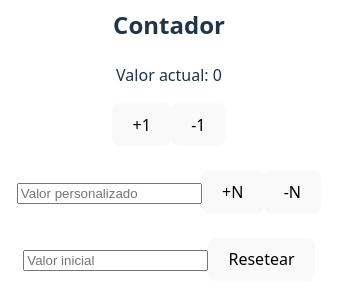
Test: decrementa por valor personalizado
The image size is (338, 288).
Type "3" into the number field with placeholder "Valor personalizado".
click(109, 193); type("3")  # box [17,183,202,204]
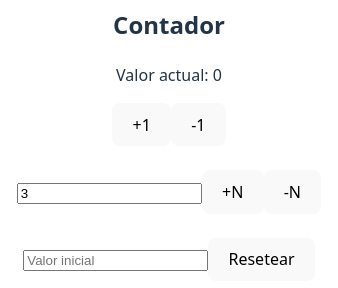
Click the button "-N".
click(292, 192)  # box [264,170,321,214]
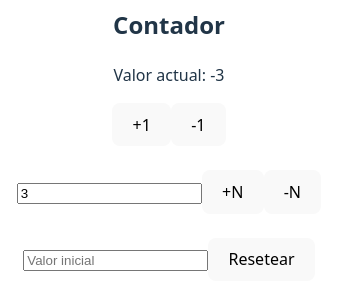
Expected: the text "Valor actual: -3" is shown, [114,64,224,86]
